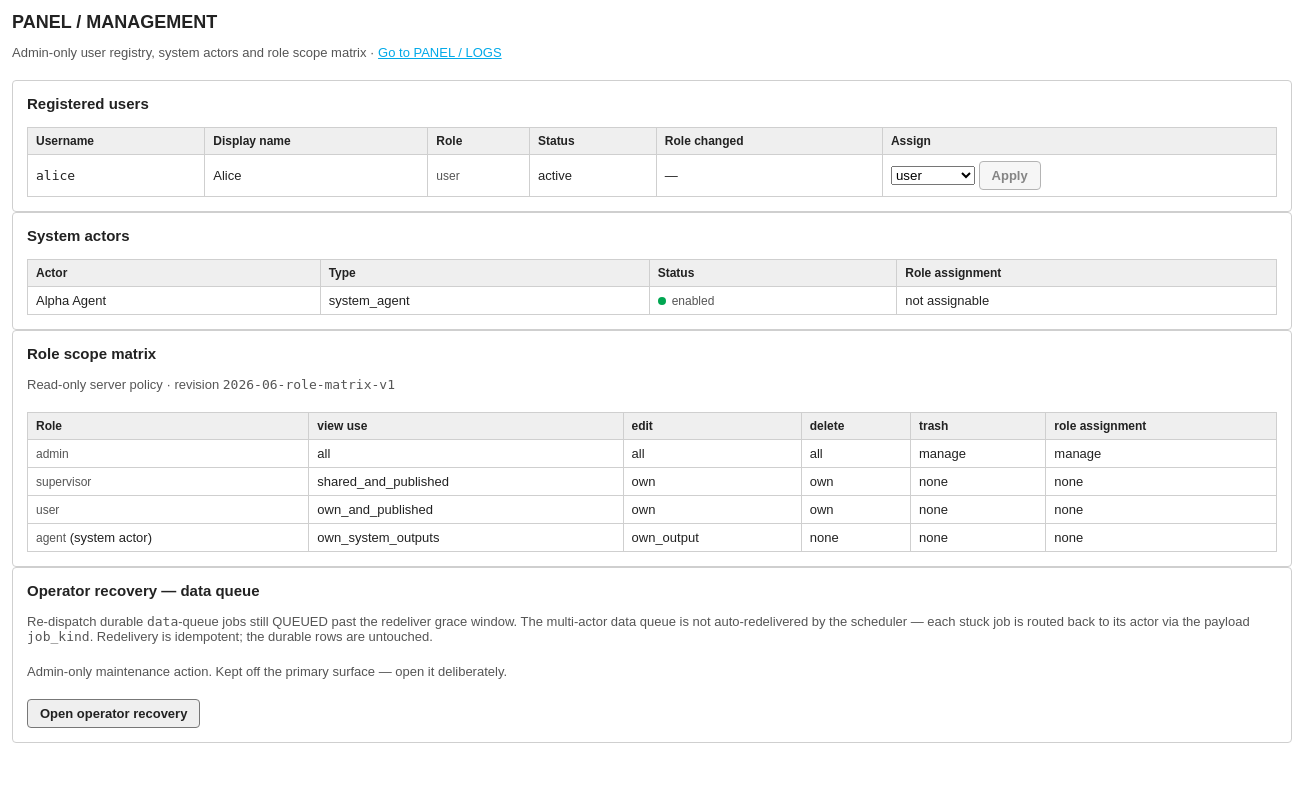
Test: Panel / Management page › assigns a role with the row-version OCC guard and server-truth role options
Expected: the text "alice" is shown, [36, 168, 75, 183]
Select "supervisor" in the dropdown named "Role for alice" at (933, 176), box [891, 166, 975, 185]
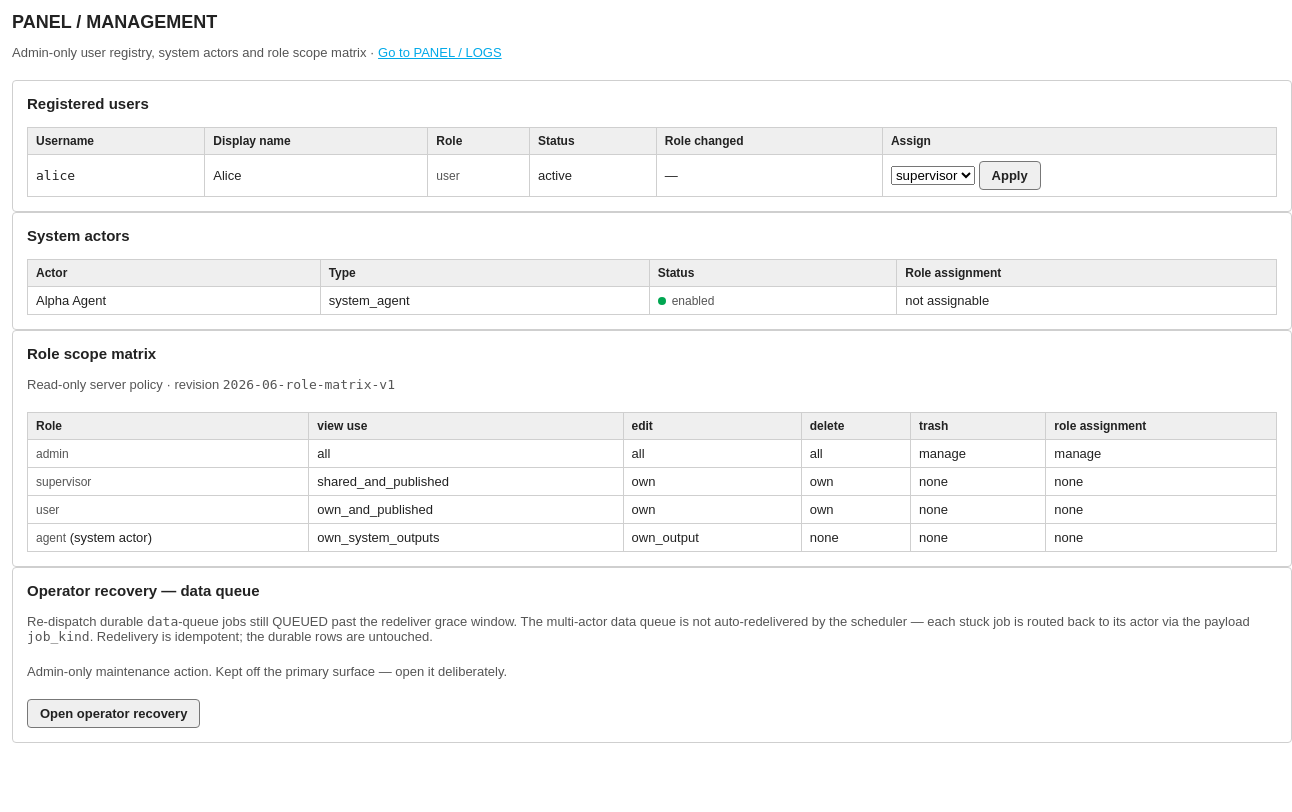
Click the button "Apply" at (1010, 176), box [978, 161, 1041, 190]
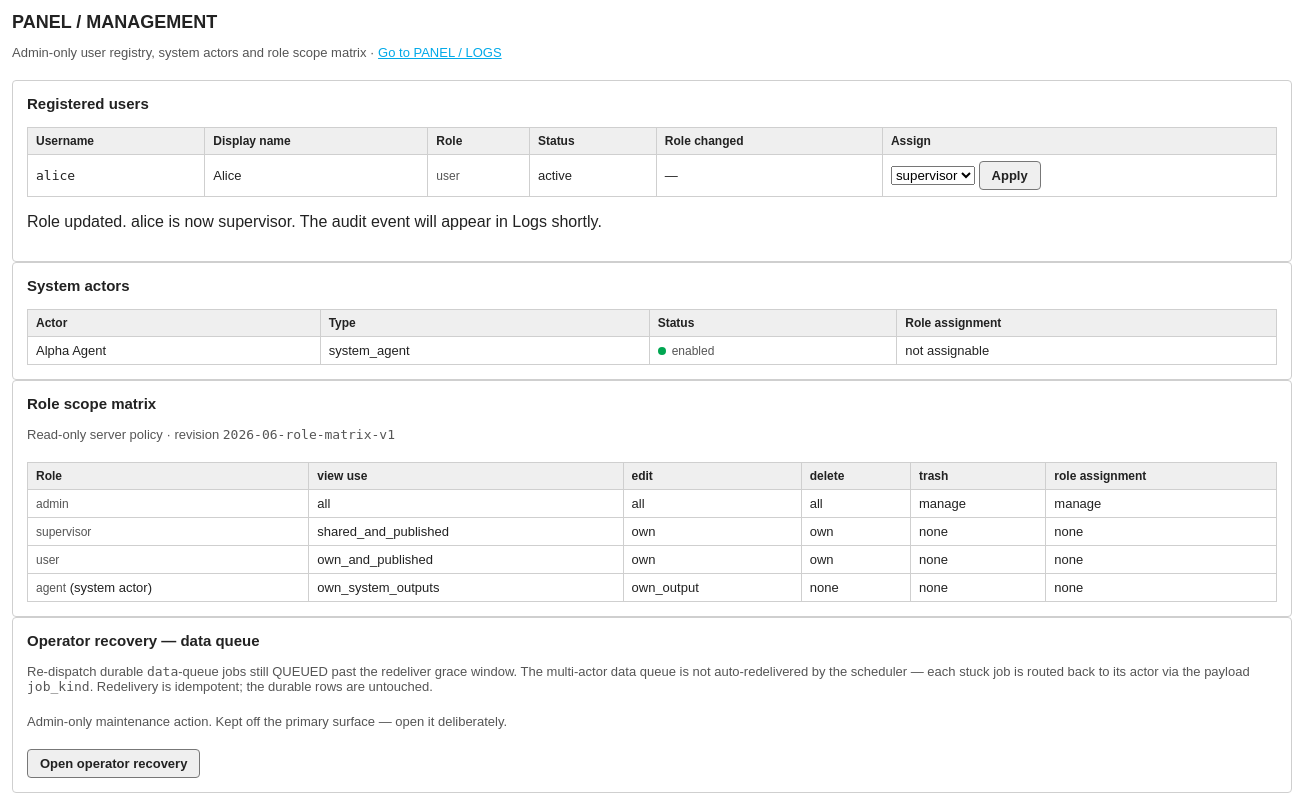
Expected: the text "Role updated. alice is now supervisor. The audit event will appear in Logs shortly." is shown, [27, 213, 602, 230]
